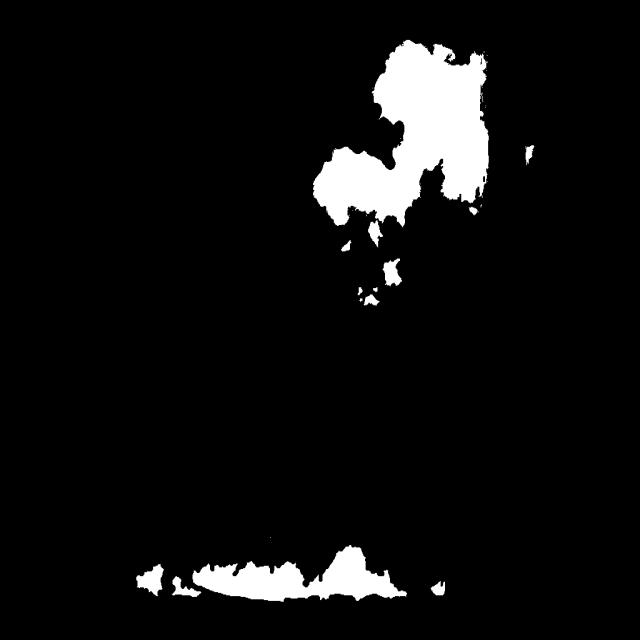fire: (296, 14, 563, 304), (99, 516, 507, 620)
